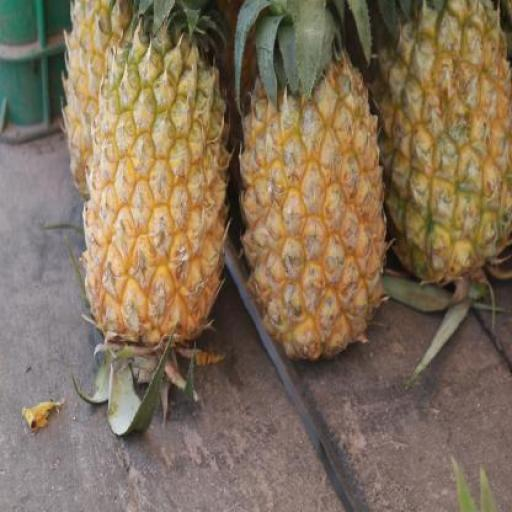------------------------------: (376, 2, 510, 282)
Pineapple - v8 v1: (92, 30, 237, 353), (240, 53, 390, 354)
